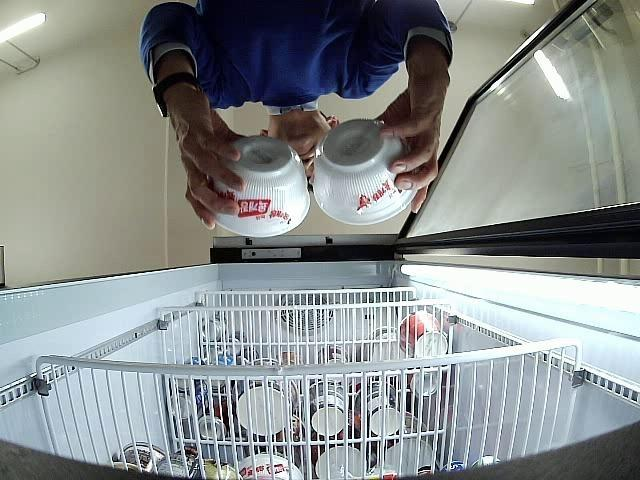09_yukGaeJang: (313, 118, 419, 224), (210, 136, 310, 237)
